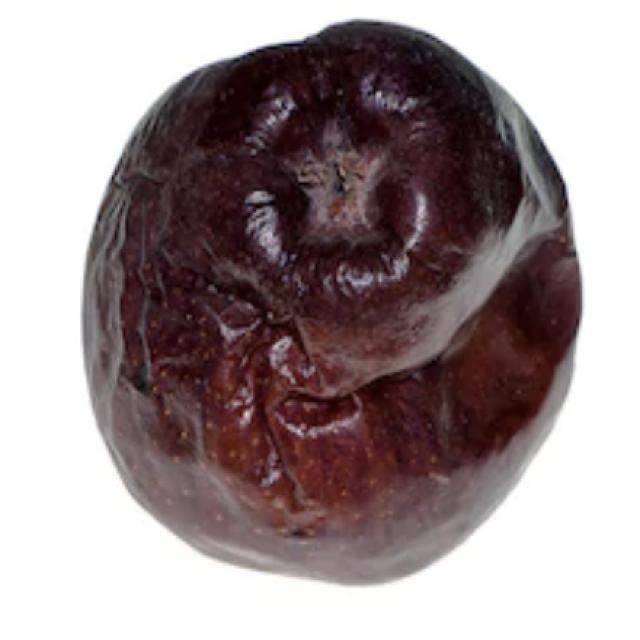Rotten: (71, 18, 586, 592)
